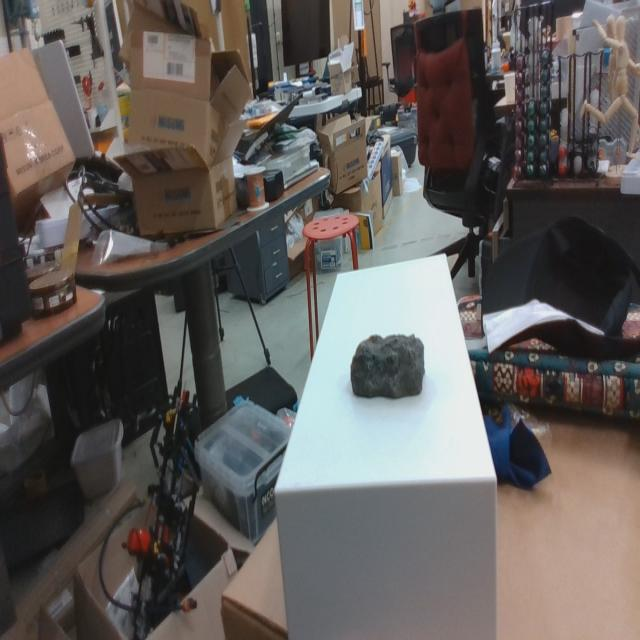stone: (350, 334, 426, 400)
